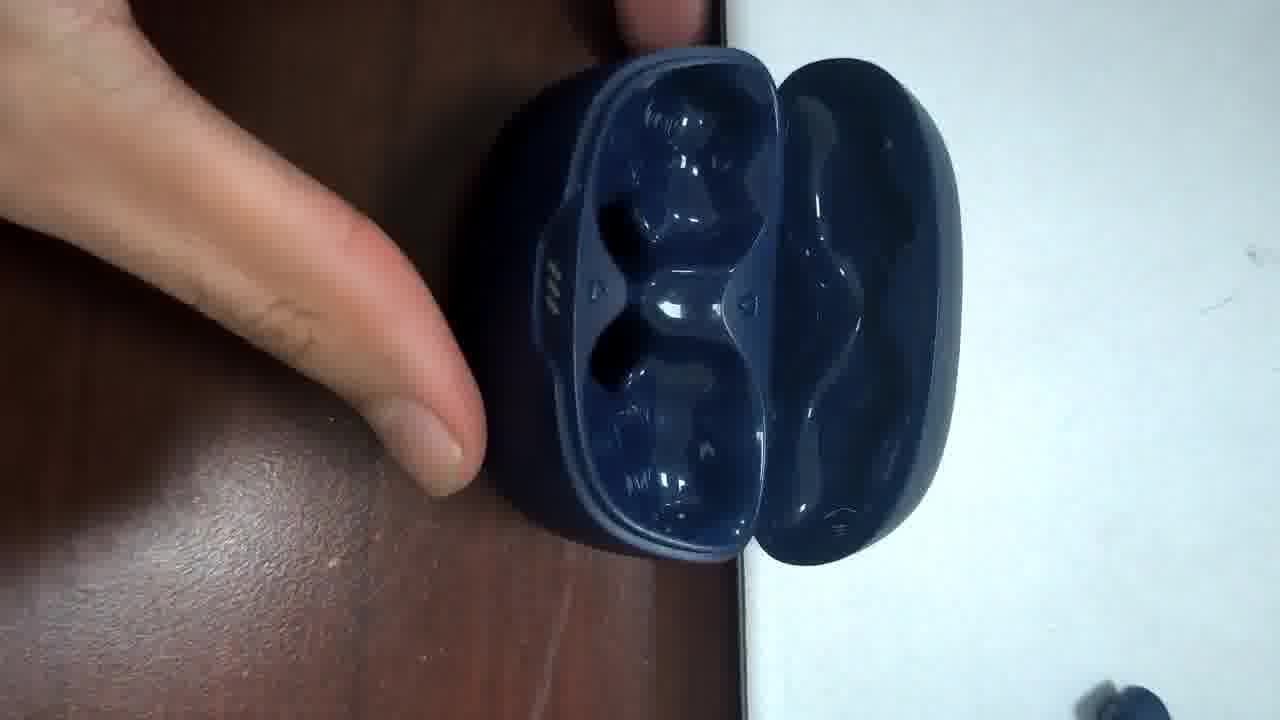Case: (460, 47, 960, 562)
Empty_Slot: (577, 306, 769, 550), (587, 69, 781, 280)
